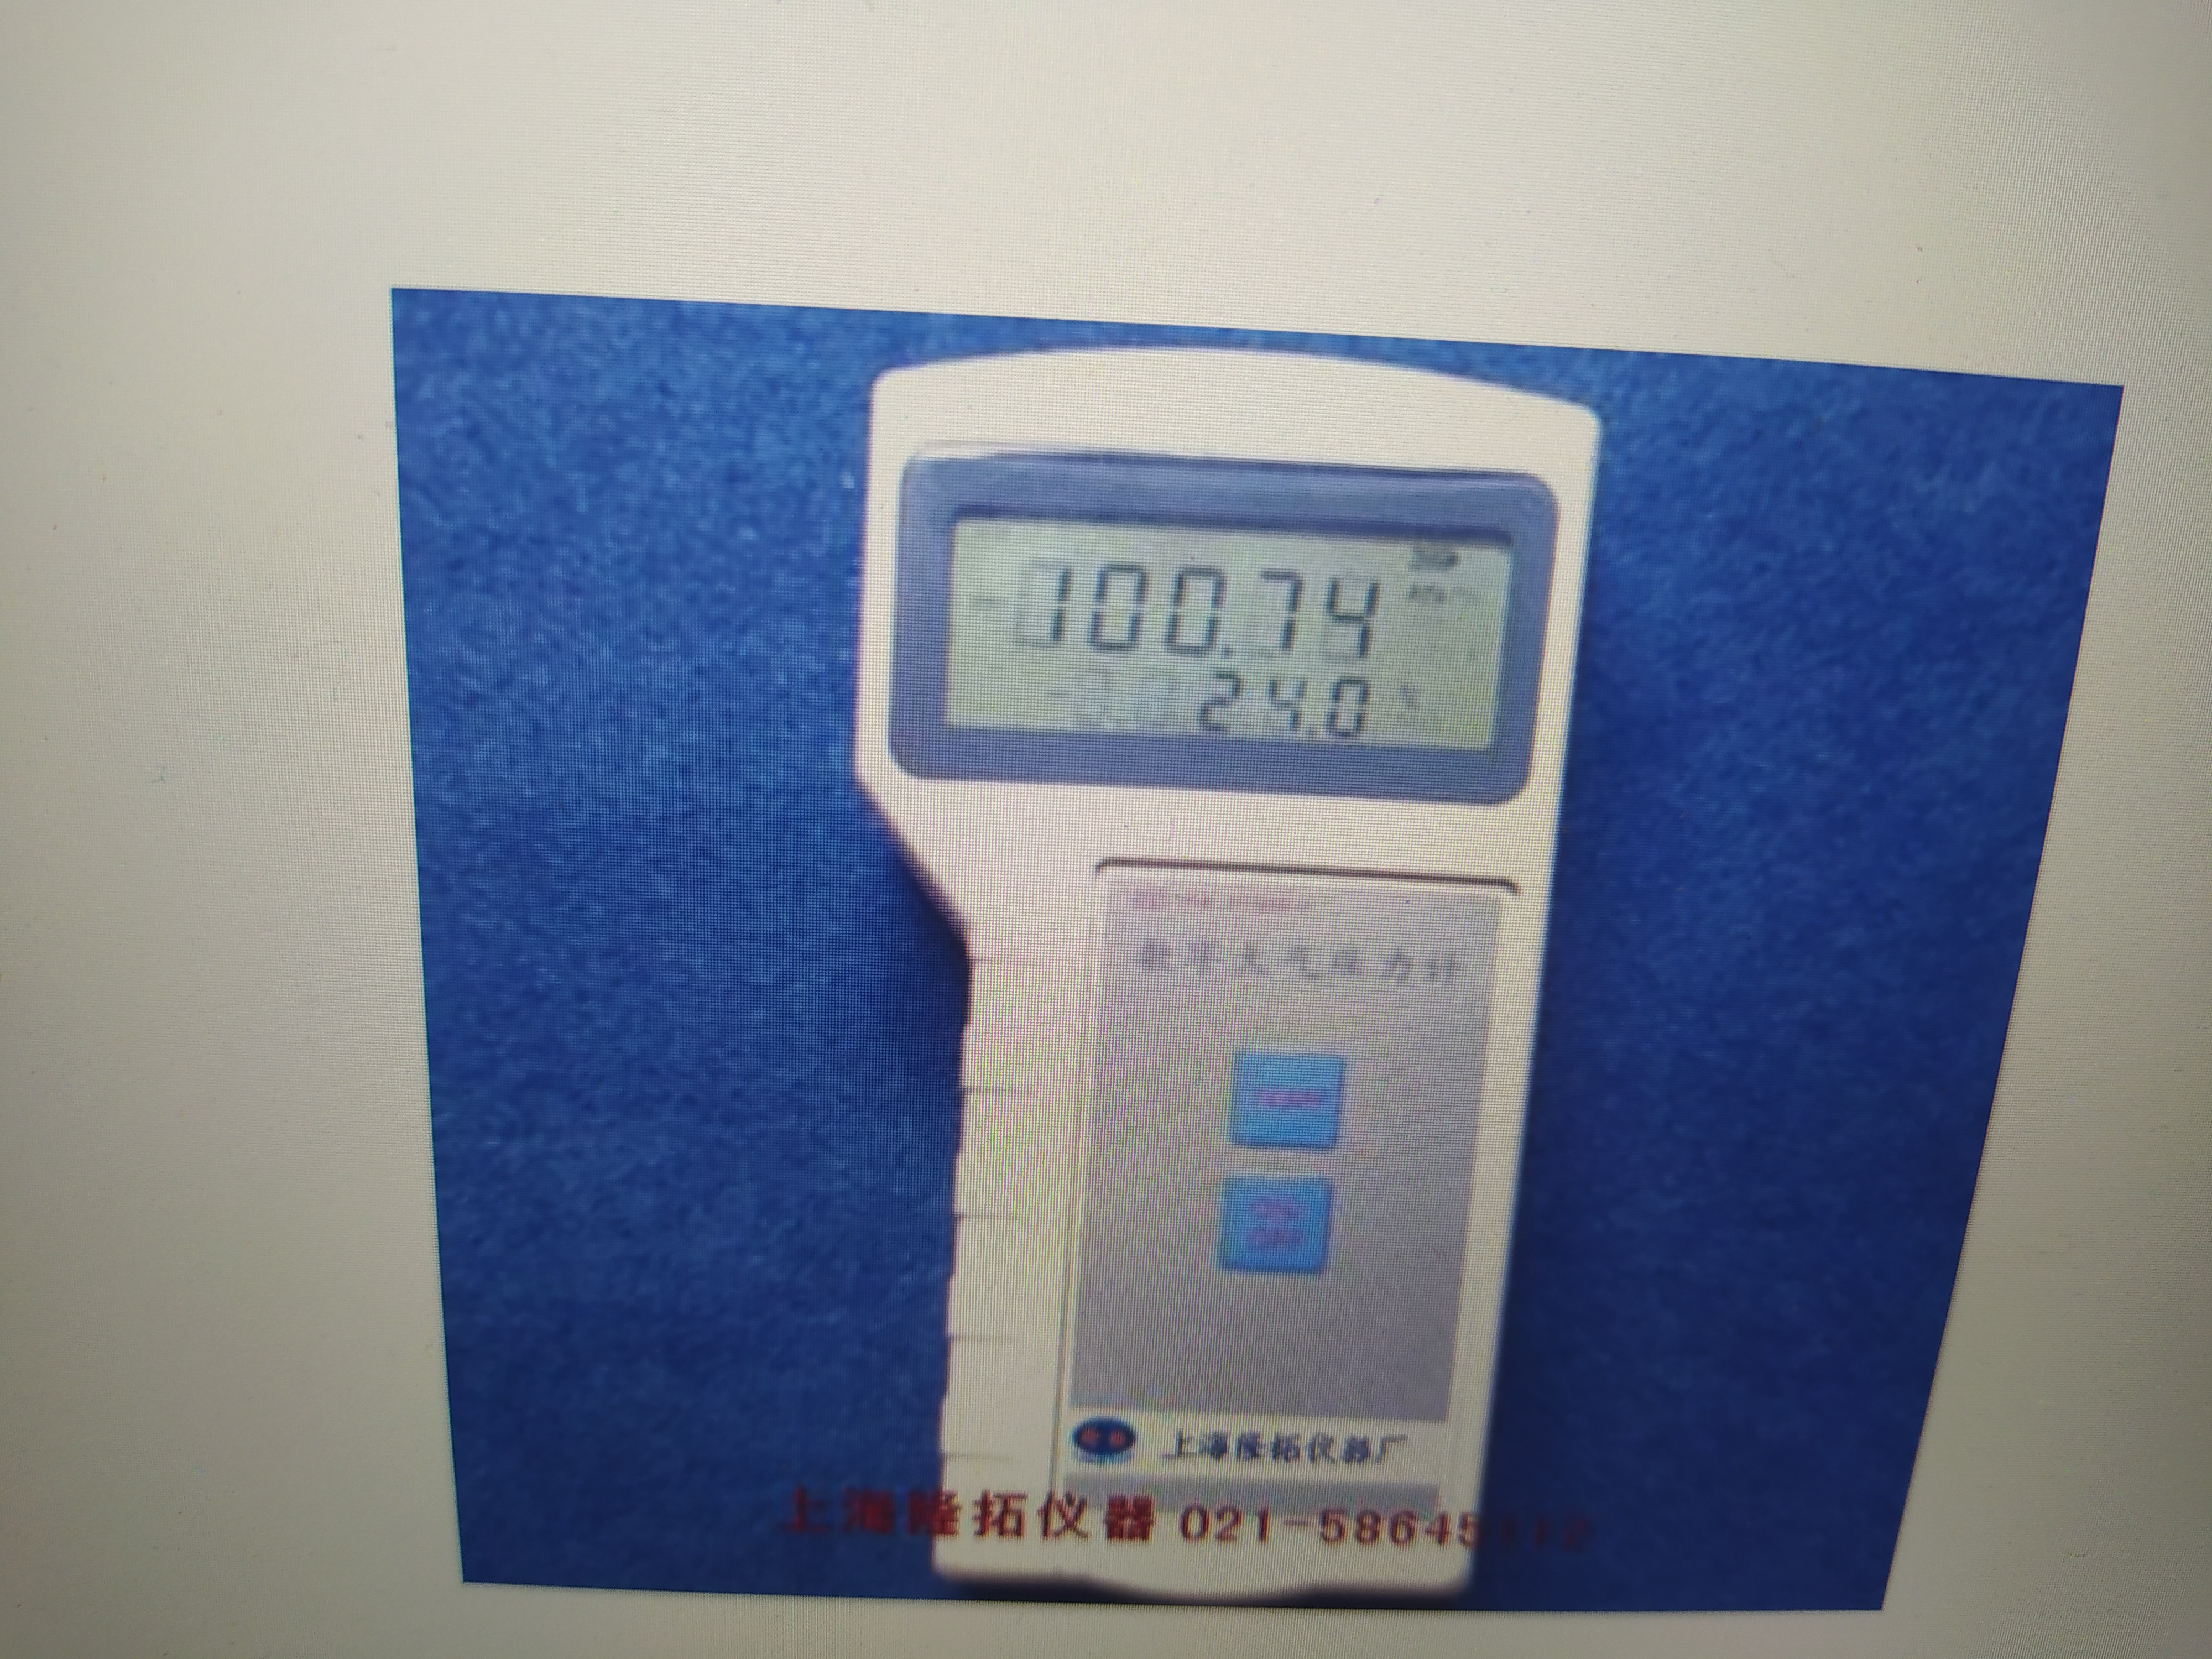.: (1224, 559, 1245, 662), (1306, 674, 1325, 742)
0: (1165, 559, 1223, 657), (1094, 559, 1148, 652), (1325, 674, 1376, 742), (1176, 1504, 1209, 1546)
1: (1035, 561, 1069, 640), (1249, 1506, 1275, 1549)
2: (1200, 671, 1242, 734), (1212, 1504, 1245, 1547)
4: (1324, 559, 1379, 660), (1263, 674, 1306, 735), (1423, 1507, 1453, 1561)
5: (1454, 1504, 1484, 1561), (1317, 1506, 1346, 1553)
6: (1383, 1502, 1418, 1558)
7: (1256, 559, 1303, 662)
8: (1352, 1504, 1385, 1556)
